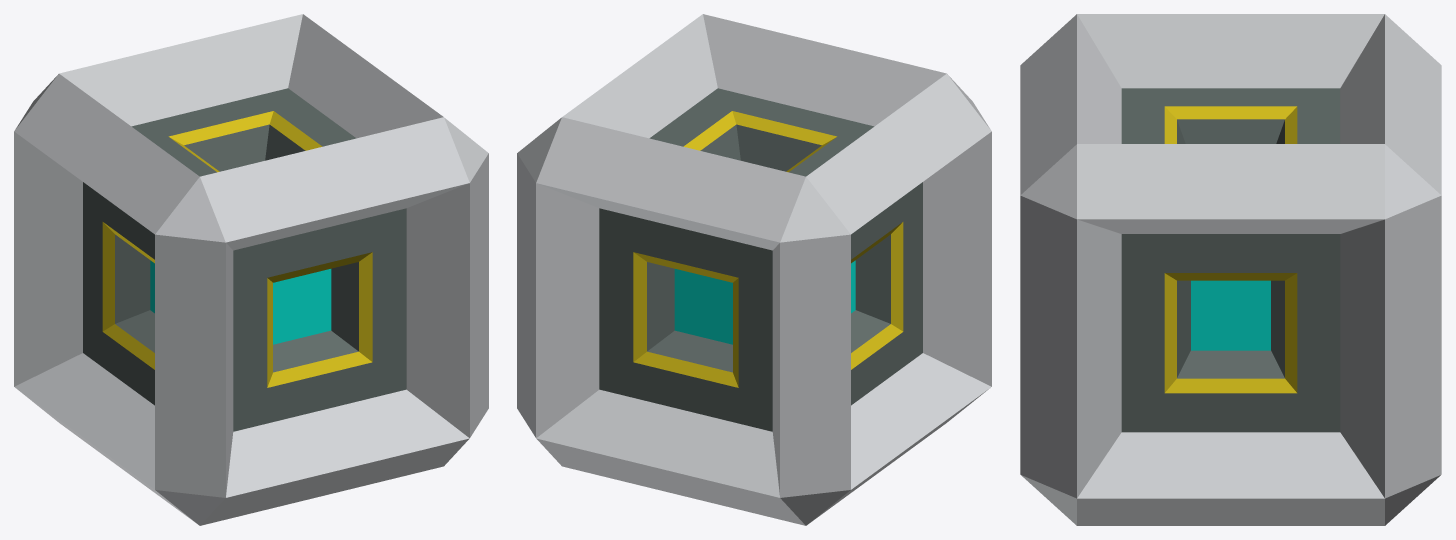
Rendered from Block001.fbx.
3 renders of one model, left to right at view 1: azimuth 30°, elevation 25°; view 2: azimuth 150°, elevation 25°; view 3: azimuth 270°, elevation 25°, orthographic. The views are drawn at different scales.
Parts seen in each view (by area): view 1: Cube; view 2: Cube; view 3: Cube.
Boxes of the visible parts, bbox=[...] form: Cube: bbox=[14, 14, 488, 525]; Cube: bbox=[517, 14, 991, 525]; Cube: bbox=[1020, 14, 1441, 525].
Bounding box in the file's own units: 200 × 200 × 200.
